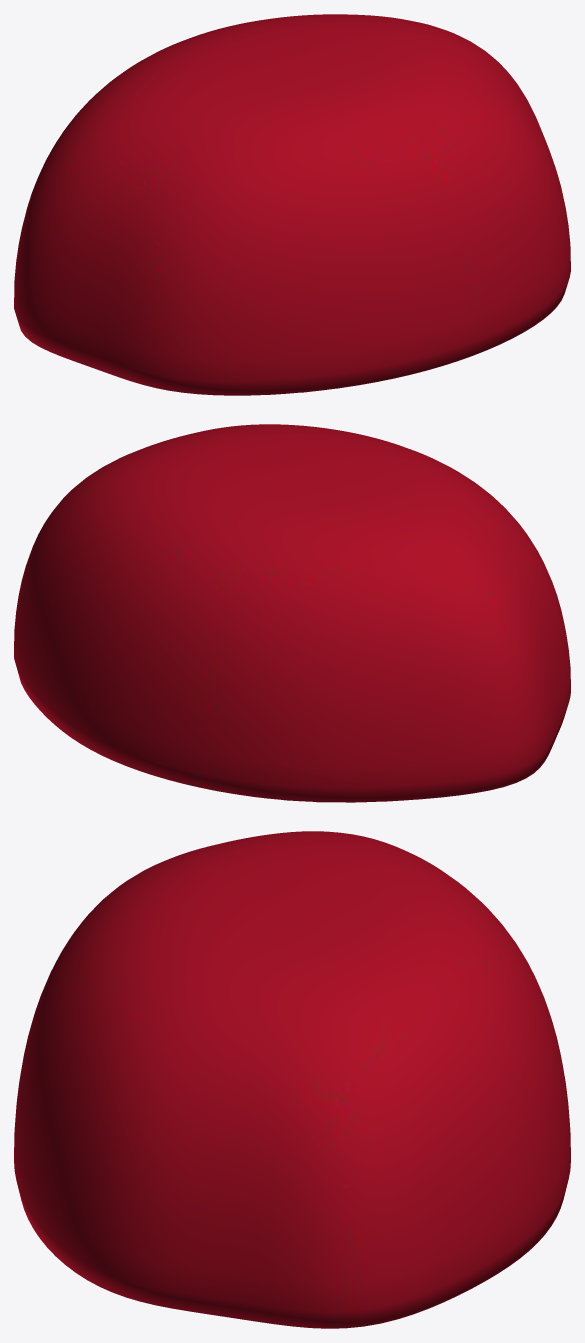
The model's file is ruby.glb.
3 renders of one model, top to bottom at view 1: azimuth 30°, elevation 25°; view 2: azimuth 150°, elevation 25°; view 3: azimuth 270°, elevation 25°, orthographic. The views are drawn at different scales.
Visible parts, largest first — view 1: ruby; view 2: ruby; view 3: ruby.
Part boxes in pixels (box(x1,y1,x2,y2)): ruby: box(14, 14, 570, 395); ruby: box(14, 424, 570, 802); ruby: box(14, 831, 570, 1328).
Bounding box in the file's own units: 0.0244 × 0.011 × 0.019.
Materials: 1 (1 with a texture image).
